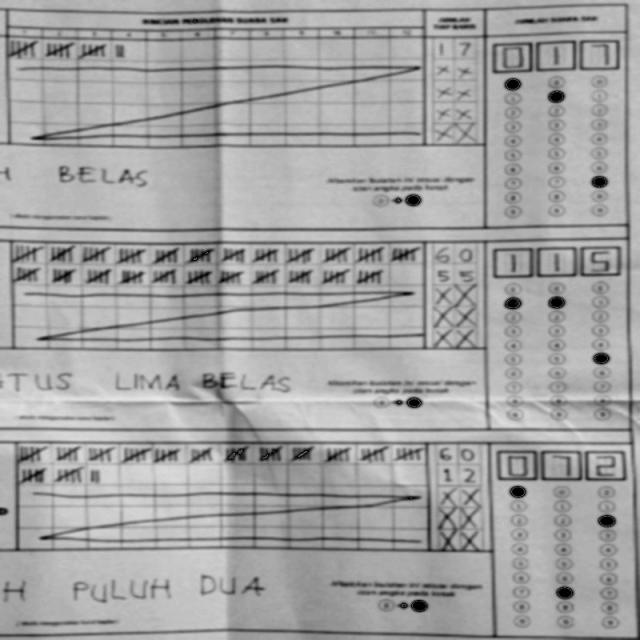Suara: (491, 441, 632, 482), (490, 238, 623, 278), (488, 37, 625, 70)
